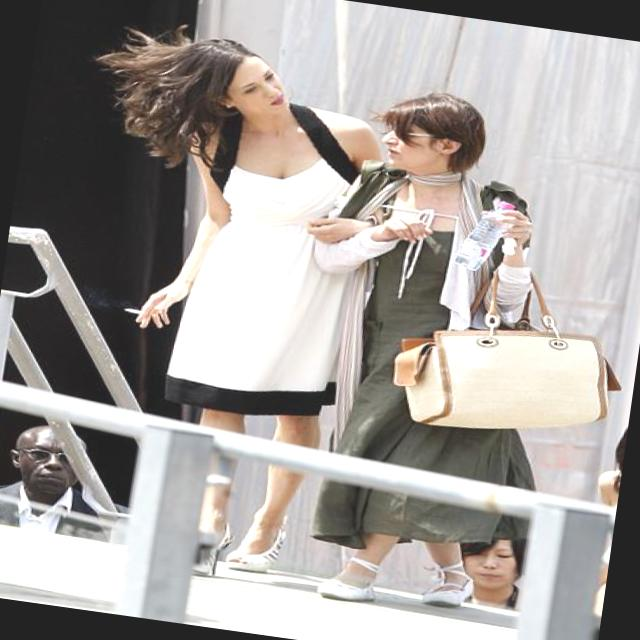smoke: (116, 288, 162, 332)
